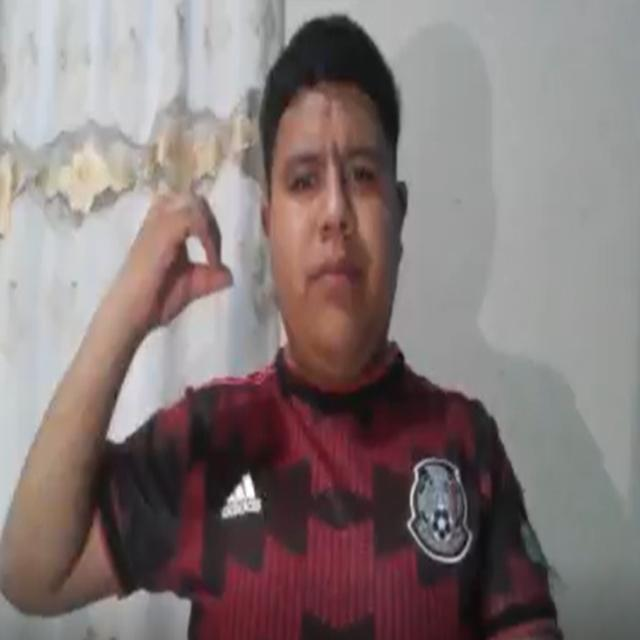O: (117, 138, 251, 362)
